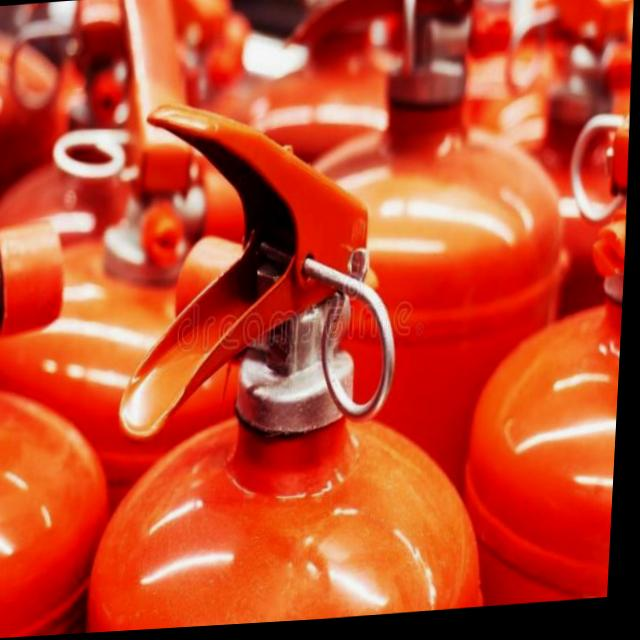FireExtinguisher: (74, 79, 526, 635), (245, 0, 598, 626), (442, 104, 635, 614), (0, 202, 139, 640)
